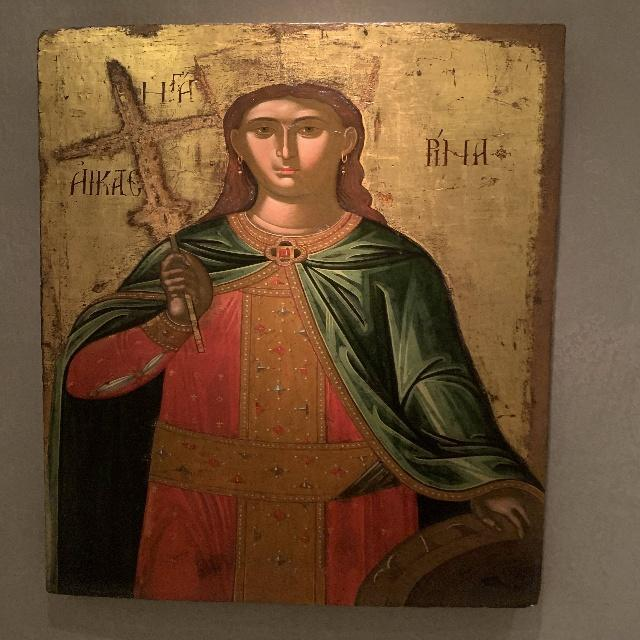cross: (55, 59, 219, 346)
crown: (200, 40, 388, 116)
shield: (353, 502, 540, 606)
st_catherine: (40, 30, 543, 606)
